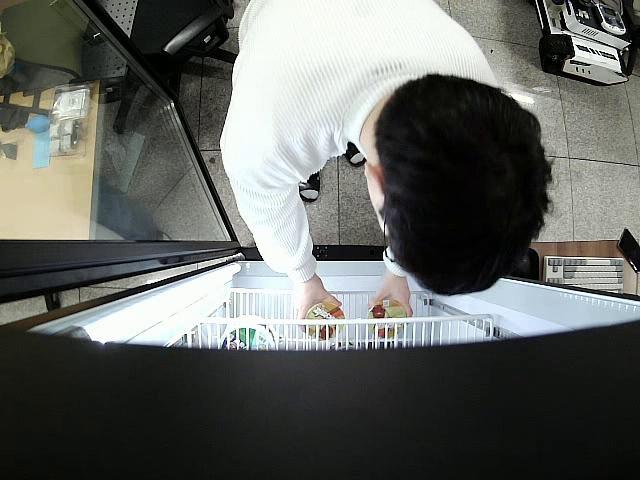04_chapagetti_S: (299, 302, 346, 342), (367, 298, 410, 340)
